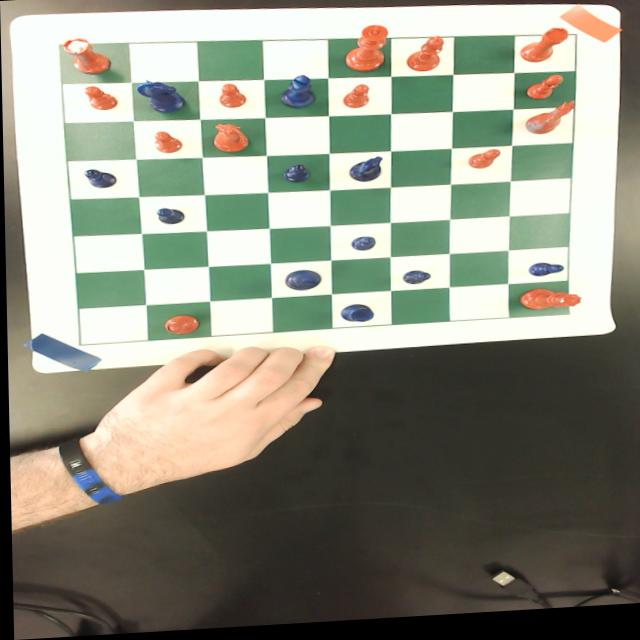B: (278, 76, 315, 112)
K: (284, 272, 322, 294)
N: (135, 78, 185, 116), (347, 160, 383, 186)
P: (82, 168, 118, 189), (154, 208, 186, 227), (526, 267, 563, 283), (281, 166, 309, 187), (400, 273, 430, 290), (349, 239, 375, 255)
R: (338, 306, 373, 326)
b: (404, 40, 444, 77), (160, 314, 199, 337)
k: (343, 27, 389, 77)
n: (521, 106, 575, 141), (206, 124, 249, 155)
p: (525, 80, 565, 107), (82, 85, 119, 112), (341, 87, 371, 113), (152, 131, 183, 156), (218, 84, 246, 110), (468, 153, 501, 175)
q: (518, 292, 581, 317)
r: (59, 36, 113, 76), (518, 33, 571, 70)
